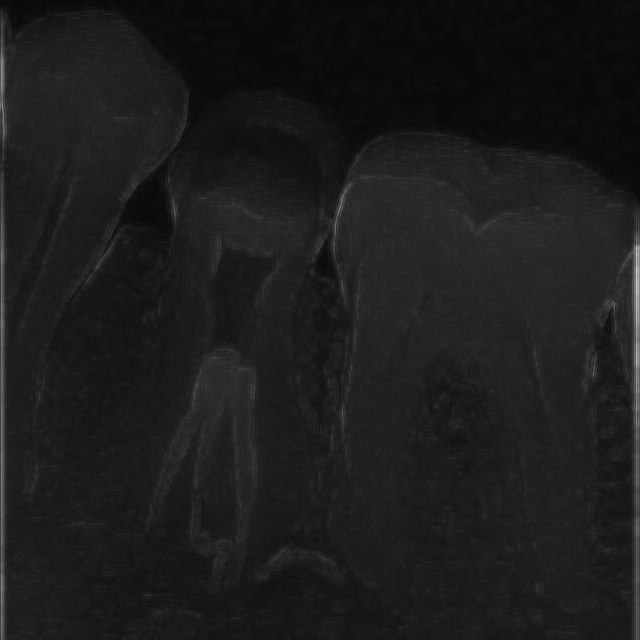Class 1- complete endodontic treatment: (99, 61, 422, 640)
cavity: (317, 94, 638, 633)
